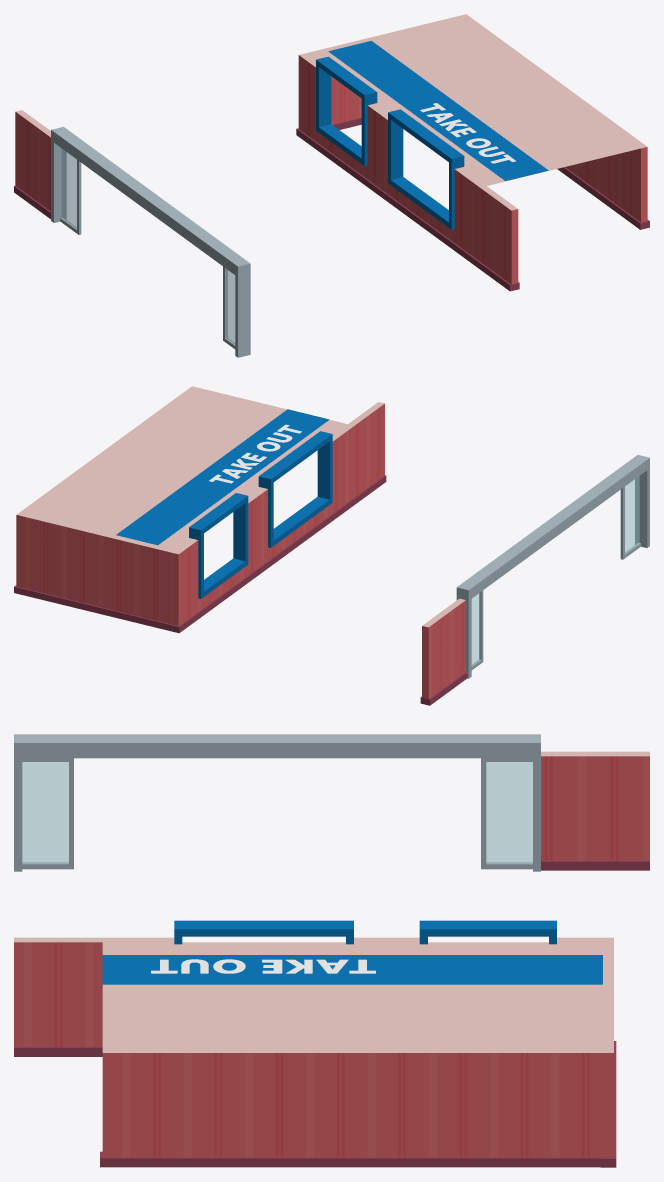
The model's file is Map_bs_TakeOut01_Wall_geo.fbx.
3 views of the same model, one above another, from view 1: azimuth 30°, elevation 25°; view 2: azimuth 150°, elevation 25°; view 3: azimuth 270°, elevation 25° (orthographic). The views are drawn at different scales.
Parts seen in each view (by area): view 1: TakeOut01_Wall_geo, TakeOut01_Ceiling_geo, Map_bs_Wallside3_inst.006; view 2: TakeOut01_Wall_geo, TakeOut01_Ceiling_geo, Map_bs_Wallside3_inst.006; view 3: TakeOut01_Wall_geo, TakeOut01_Ceiling_geo, Map_bs_Wallside3_inst.006.
Part boxes in pixels (box(x1,y1,x2,y2)): TakeOut01_Wall_geo: box(51, 14, 649, 357); TakeOut01_Ceiling_geo: box(310, 18, 640, 185); Map_bs_Wallside3_inst.006: box(14, 110, 50, 218); TakeOut01_Wall_geo: box(14, 386, 649, 678); TakeOut01_Ceiling_geo: box(27, 388, 347, 549); Map_bs_Wallside3_inst.006: box(420, 598, 467, 705); TakeOut01_Wall_geo: box(14, 734, 616, 1167); TakeOut01_Ceiling_geo: box(102, 942, 602, 1048); Map_bs_Wallside3_inst.006: box(541, 751, 649, 870).
Bounding box in the file's own units: 11.73 × 10.36 × 2.31.
